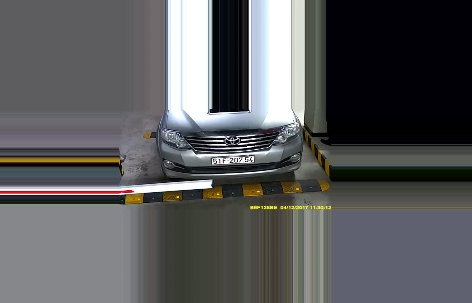plate: (208, 154, 256, 165)
